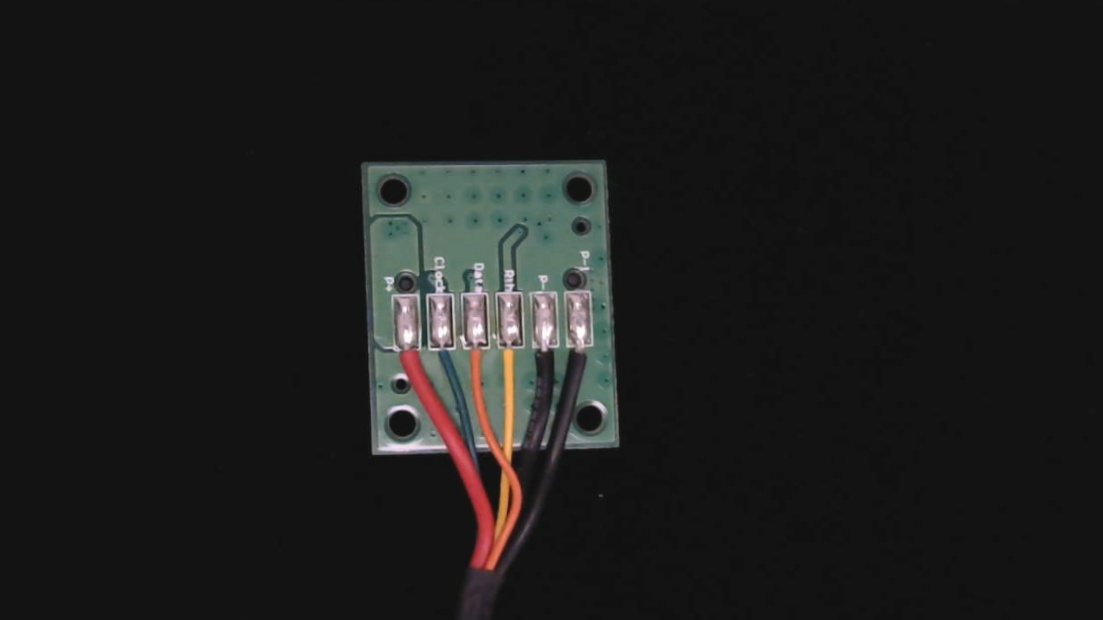Black: (515, 335, 545, 399)
Black1: (552, 336, 581, 394)
Green: (419, 334, 447, 385)
Orange: (451, 335, 479, 398)
Red: (382, 336, 412, 397)
Yellow: (482, 335, 512, 400)
